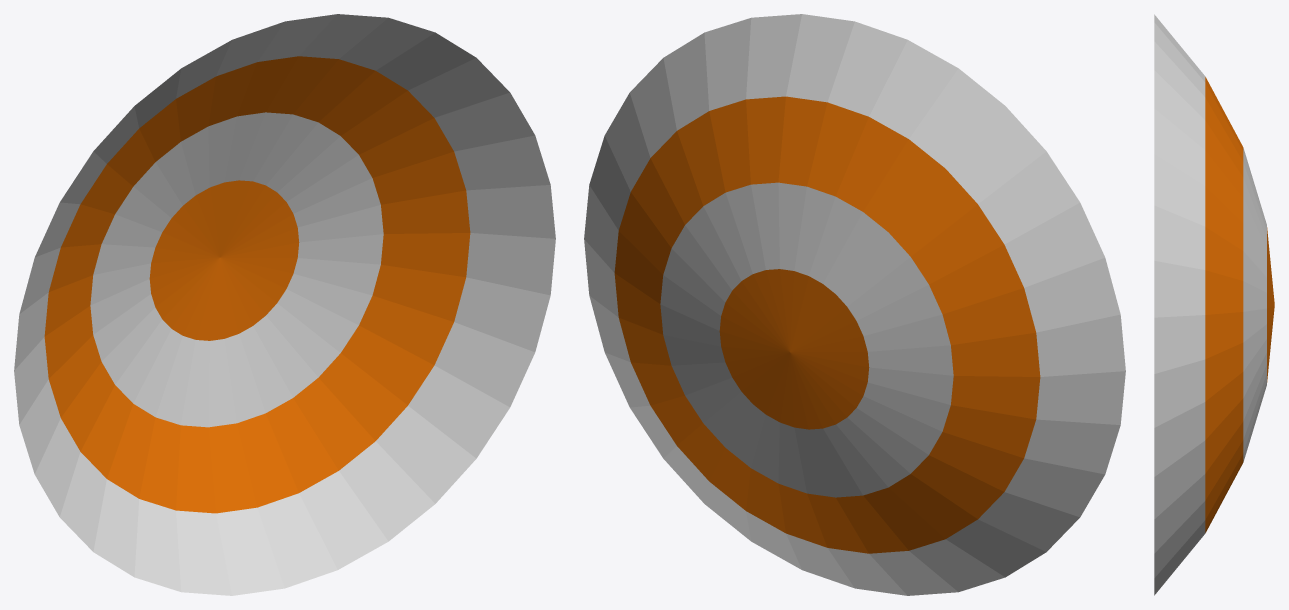
Rendered from Target.fbx.
3 views of the same model, side by side, from view 1: azimuth 30°, elevation 25°; view 2: azimuth 150°, elevation 25°; view 3: azimuth 270°, elevation 25° (orthographic). The views are drawn at different scales.
Visible parts, largest first — view 1: Sphere; view 2: Sphere; view 3: Sphere.
Boxes of the visible parts, x1,y1,x2,y2 form: Sphere: [14, 14, 555, 595]; Sphere: [584, 14, 1125, 595]; Sphere: [1154, 14, 1274, 595].
Size of the model in its own units: 141 by 141 by 29.29.
